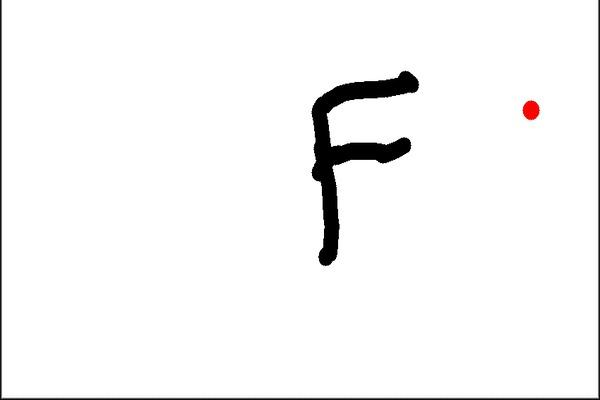F: (307, 67, 420, 267)
